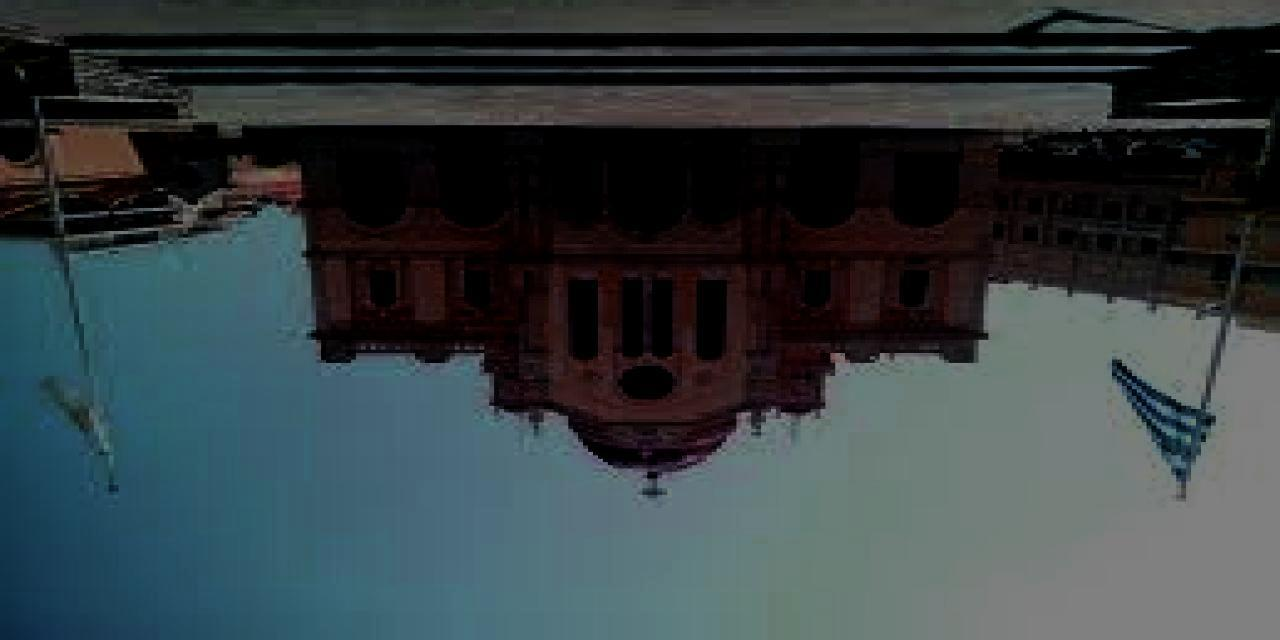Agios Minas: (302, 136, 1011, 510)
